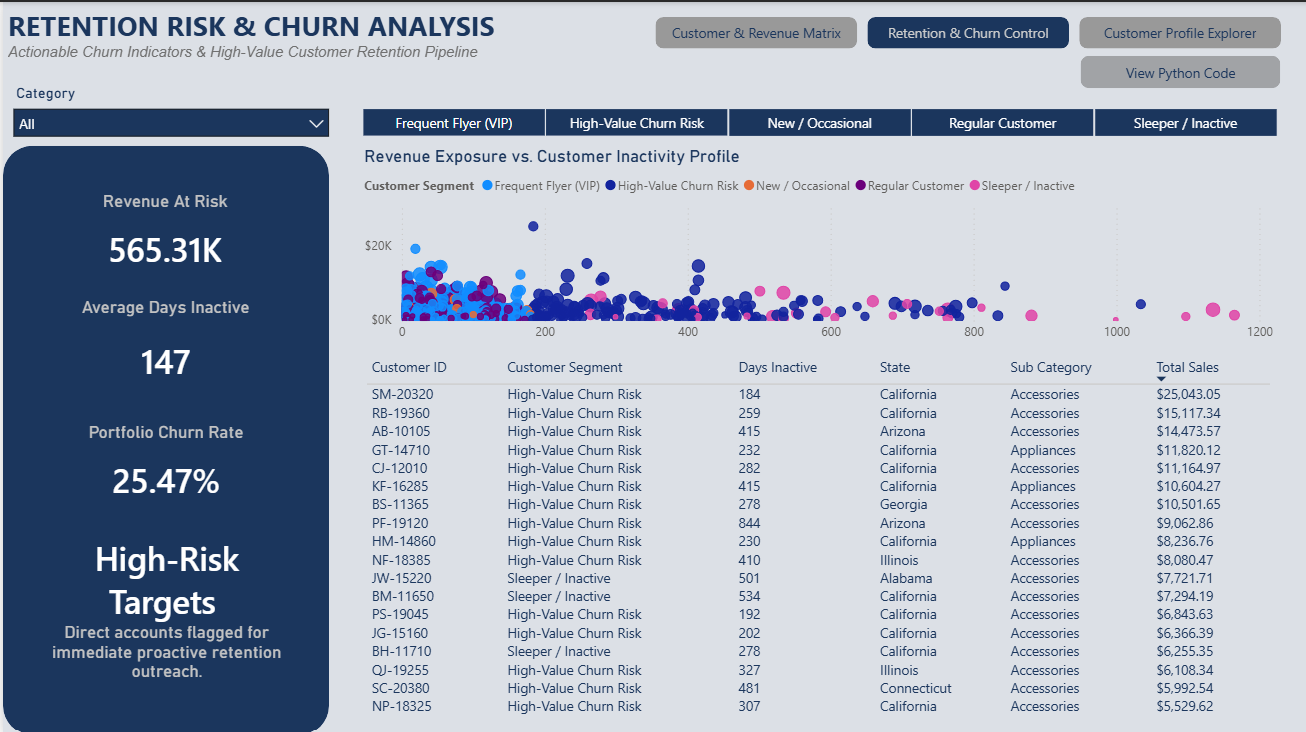

Layout of this report page (visuals, bound fields, positions):
{"tool":"powerbi","page":{"name":"Retention & Churn Control","canvas":[1280,720],"ordinal":1},"visuals":[{"type":"shape","box":[0,141.2,320,578.8],"z":0},{"type":"cardVisual","title":"Revenue At Risk","fields":{"Data":["_Calculated Measures.Revenue at Risk"]},"box":[2.5,185,313.8,92.5],"z":1000},{"type":"cardVisual","title":"Portfolio Churn Rate","fields":{"Data":["_Calculated Measures.Customer Churn Rate"]},"box":[60,412.5,200,92.5],"z":2000},{"type":"textbox","box":[36.8,519,247.9,153.4],"z":3000},{"type":"cardVisual","title":"Average Days Inactive","fields":{"Data":["_Calculated Measures.Days Inactive Card"]},"box":[10,290,300,103.8],"z":4000},{"type":"textbox","box":[0,0,493.3,112.9],"z":5000},{"type":"slicer","title":"Customer Segment","fields":{"Values":["Sheet1.Customer Segment"]},"box":[327.6,98.2,946,33.1],"z":6000},{"type":"scatterChart","title":"Revenue Exposure vs. Customer Inactivity Profile","fields":{"Category":["Sheet1.Customer_ID"],"X":["Avg(Sheet1.Days_Without_Ordering)"],"Y":["_Calculated Measures.Total Sales"],"Series":["Sheet1.Customer Segment"],"Size":["Count(Sheet1.Order_ID)"]},"box":[349.7,141.1,901.8,201.2],"z":7000},{"type":"tableEx","fields":{"Values":["Sheet1.Customer_ID","Sheet1.Customer Segment","Avg(Sheet1.Days_Without_Ordering)","Sheet1.State","Sheet1.Sub_Category","_Calculated Measures.Total Sales"]},"box":[351.3,343.1,901.5,370.5],"z":8000},{"type":"pageNavigator","box":[640.5,14.7,614.7,31.9],"z":9000},{"type":"actionButton","title":"View Python Code","box":[1057.7,52.8,196.3,31.9],"z":10000},{"type":"slicer","title":"Category","fields":{"Values":["Sheet1.Category"]},"box":[0,76.1,330.1,65],"z":11000}]}

Visuals, with their boxes in screenshot pixels (x1, y1, x2, y2), scaled from the page's 1280x720 canvas onto the 1306x732 screenshot:
shape: locate(0, 144, 326, 731)
"Revenue At Risk" cardVisual: locate(3, 188, 323, 282)
"Portfolio Churn Rate" cardVisual: locate(61, 419, 265, 513)
textbox: locate(38, 528, 290, 684)
"Average Days Inactive" cardVisual: locate(10, 295, 316, 400)
textbox: locate(0, 0, 503, 115)
"Customer Segment" slicer: locate(334, 100, 1299, 133)
"Revenue Exposure vs. Customer Inactivity Profile" scatterChart: locate(357, 143, 1277, 348)
tableEx - Sheet1.Customer_ID x Sheet1.Customer Segment: locate(358, 349, 1278, 725)
pageNavigator: locate(654, 15, 1281, 47)
"View Python Code" actionButton: locate(1079, 54, 1279, 86)
"Category" slicer: locate(0, 77, 337, 143)
